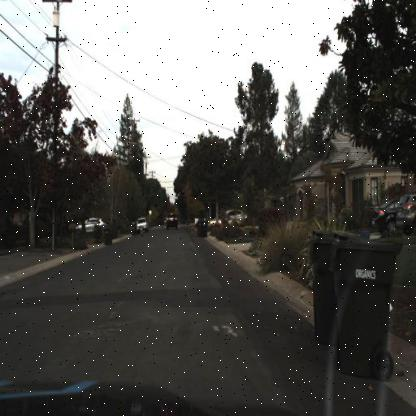car: (72, 213, 110, 238), (208, 210, 238, 234), (134, 214, 150, 237), (227, 202, 246, 220), (164, 210, 179, 231), (136, 216, 148, 233)
